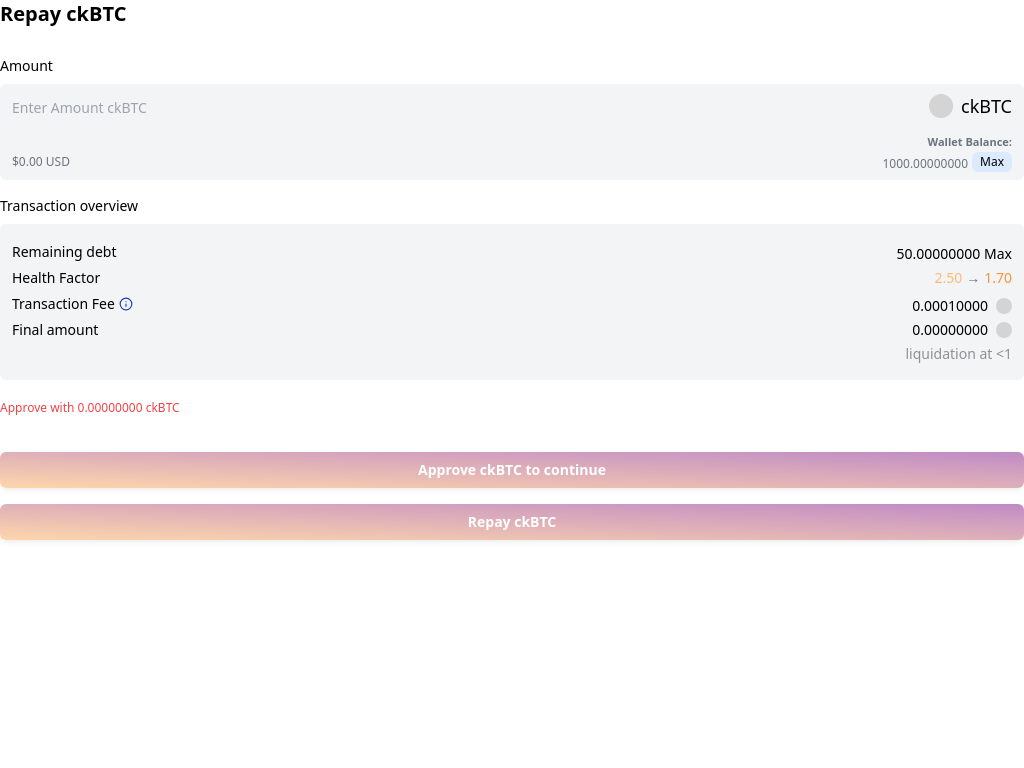
Test: Repay Component › calculates remaining debt correctly
Type "10" into the field with placeholder "Enter Amount ckBTC". click: (237, 106)
box: [12,92,462,120]
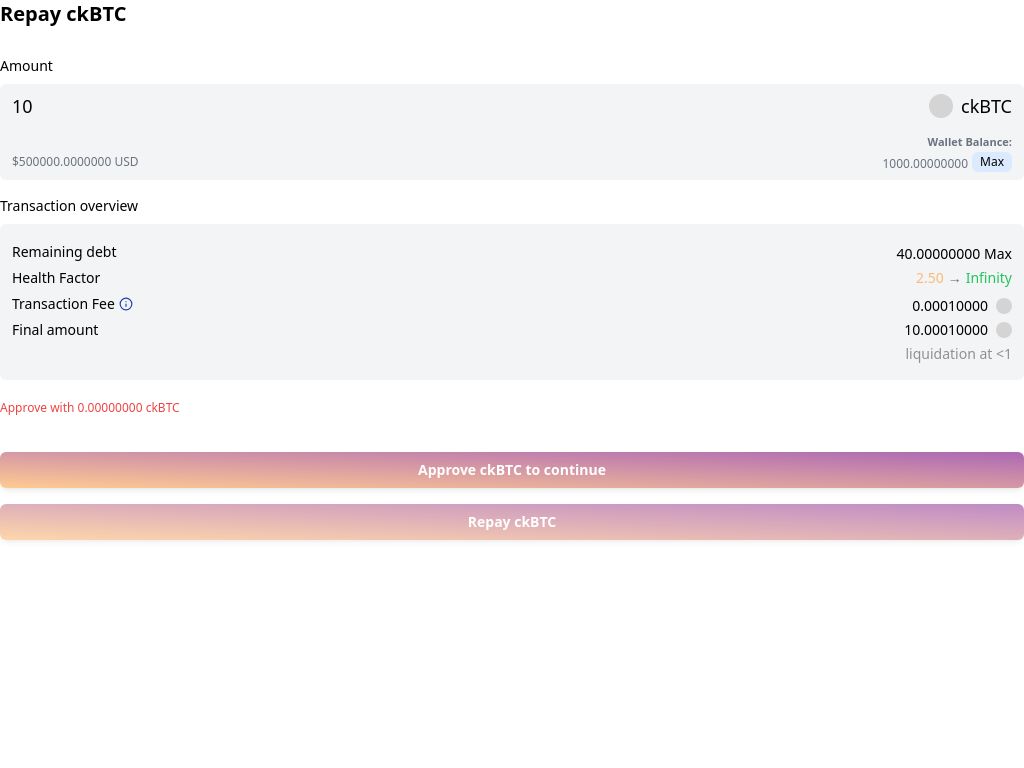
Expected: the text "40.00000000 Max" is shown, [896,244,1012,264]
